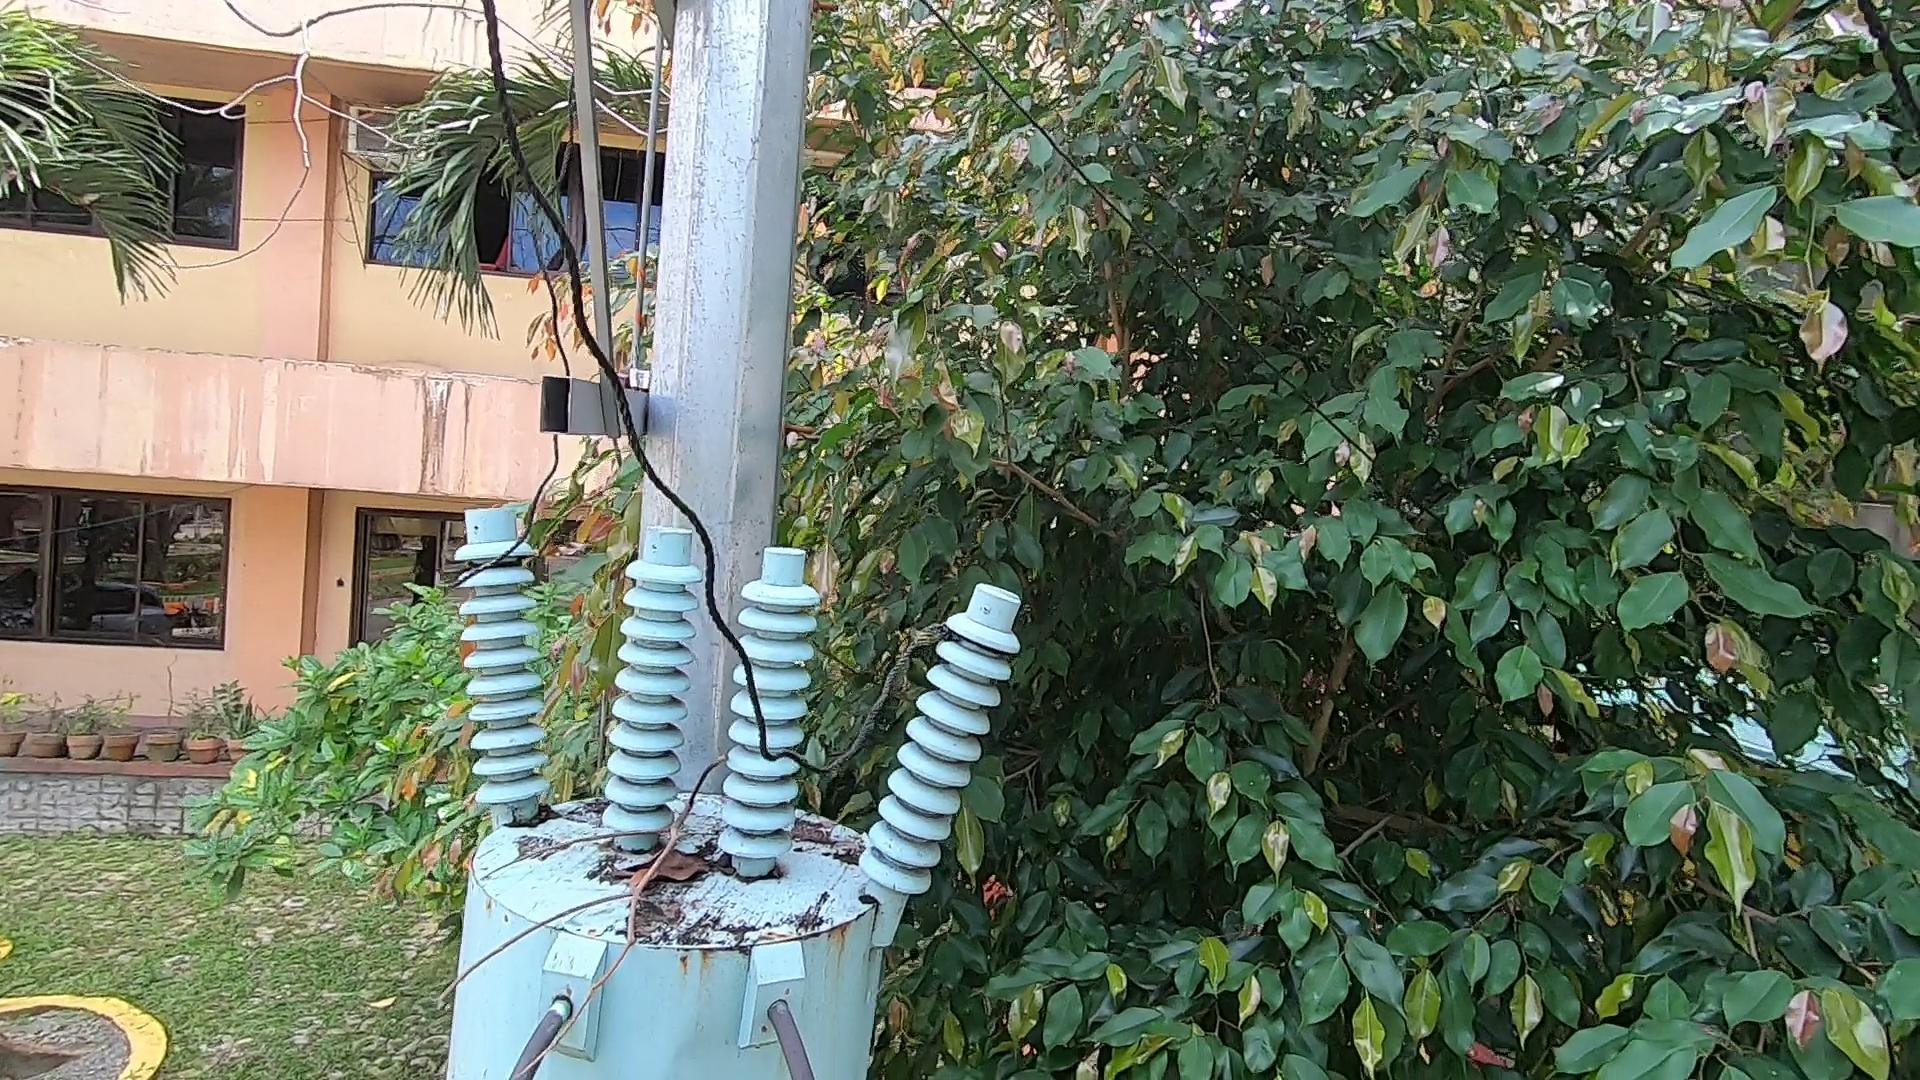leaf: (786, 807, 872, 884), (629, 843, 715, 891), (501, 794, 558, 829)
tree branch: (427, 753, 756, 1080)
